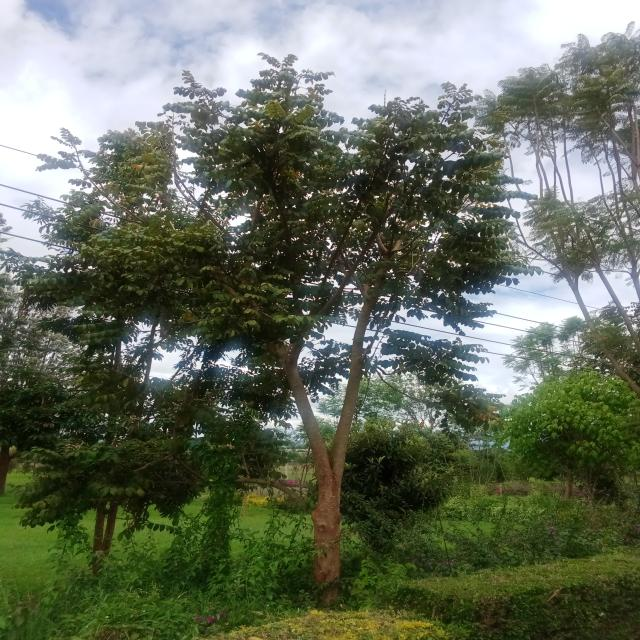Polyscias Kikuyensis: (26, 39, 573, 522)
